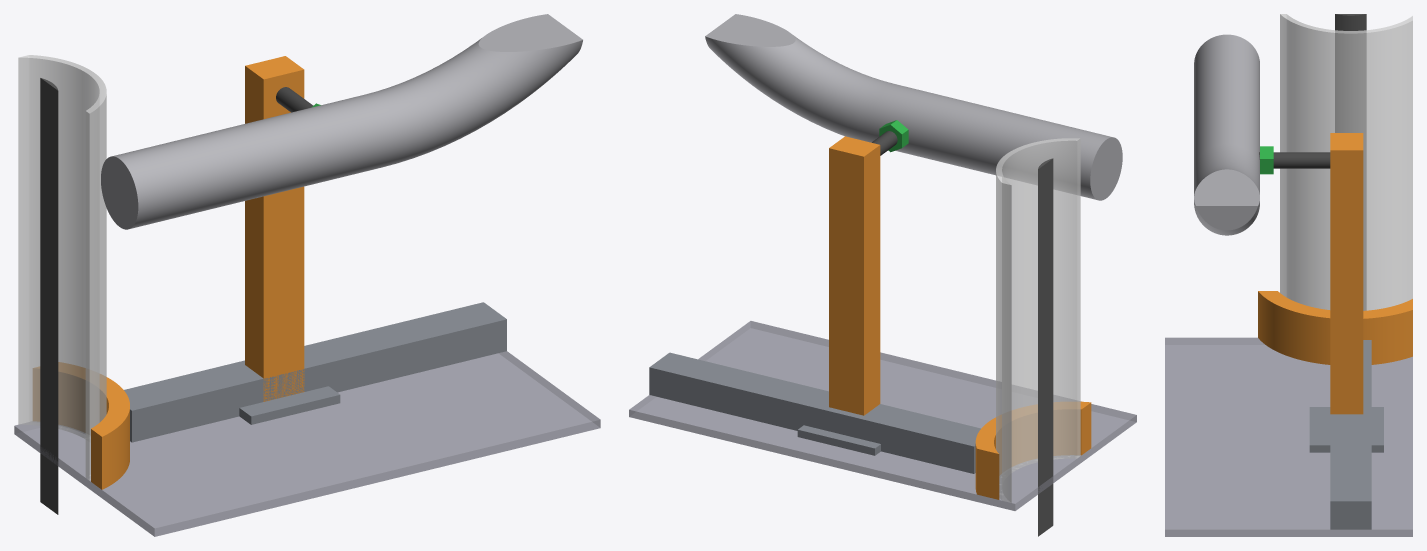
File: track-supports-bottom-v1.glb
3 views of the same model, side by side, from view 1: azimuth 30°, elevation 25°; view 2: azimuth 150°, elevation 25°; view 3: azimuth 270°, elevation 25° (orthographic). The views are drawn at different scales.
Visible parts, largest first — view 1: lid, track_loop, growing_pipe, base_bar_and_lid_plates, bottom_support_posts, spine_tube, socket, bottom_support_base_plates; view 2: track_loop, lid, growing_pipe, base_bar_and_lid_plates, bottom_support_posts, spine_tube, socket, bottom_support_base_plates; view 3: lid, growing_pipe, track_loop, bottom_support_posts, socket, base_bar_and_lid_plates, spine_tube, bottom_support_base_plates, support_m8_rods, support_lock_nuts.
Boxes of the visible parts, x1,y1,x2,y2 form: lid: (14, 351, 600, 536); track_loop: (101, 14, 582, 229); growing_pipe: (18, 55, 106, 480); base_bar_and_lid_plates: (124, 302, 506, 442); bottom_support_posts: (245, 56, 304, 401); spine_tube: (40, 78, 58, 514); socket: (33, 362, 129, 489); bottom_support_base_plates: (239, 386, 340, 424); track_loop: (705, 14, 1122, 200); lid: (629, 321, 1136, 510); growing_pipe: (996, 138, 1080, 502); base_bar_and_lid_plates: (649, 352, 980, 473); bottom_support_posts: (829, 136, 880, 415); spine_tube: (1038, 158, 1053, 536); socket: (975, 401, 1091, 499); bottom_support_base_plates: (797, 425, 880, 455); lid: (1165, 337, 1412, 536); growing_pipe: (1280, 14, 1412, 310); track_loop: (1194, 34, 1259, 235); bottom_support_posts: (1330, 133, 1363, 414); socket: (1258, 291, 1412, 364); base_bar_and_lid_plates: (1330, 340, 1371, 529); spine_tube: (1335, 14, 1366, 310); bottom_support_base_plates: (1309, 407, 1383, 452); support_m8_rods: (1259, 152, 1330, 168); support_lock_nuts: (1260, 146, 1273, 174).
Size of the model in its own units: 220 by 200 by 120.
